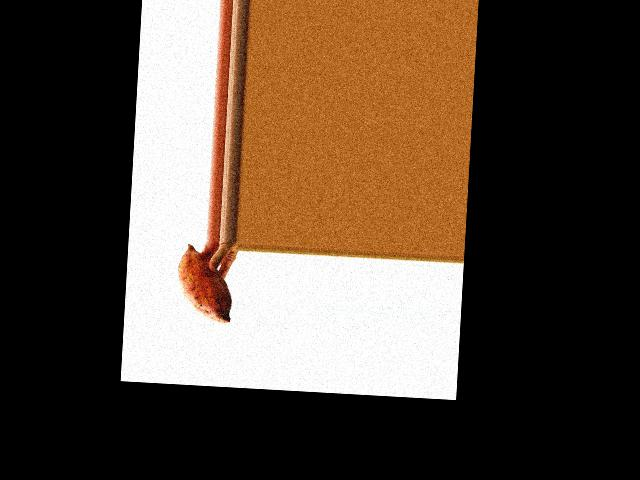sweet_potato: (170, 246, 236, 325)
